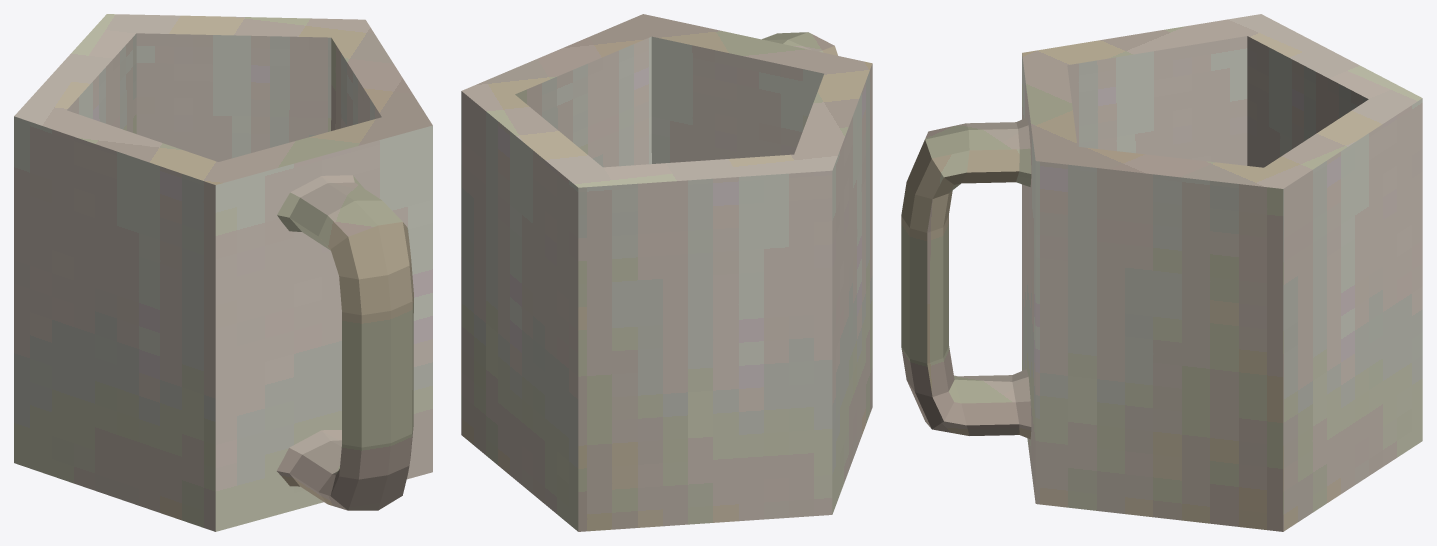
File: mug1.fbx
3 renders of one model, left to right at view 1: azimuth 30°, elevation 25°; view 2: azimuth 150°, elevation 25°; view 3: azimuth 270°, elevation 25°, orthographic.
Parts seen in each view (by area): view 1: mug1; view 2: mug1; view 3: mug1.
Part boxes in pixels (<box>): mug1: <box>14,14,432,531</box>; mug1: <box>461,14,872,531</box>; mug1: <box>901,14,1422,531</box>.
Bounding box in the file's own units: 13.46 × 12.3 × 16.95.
